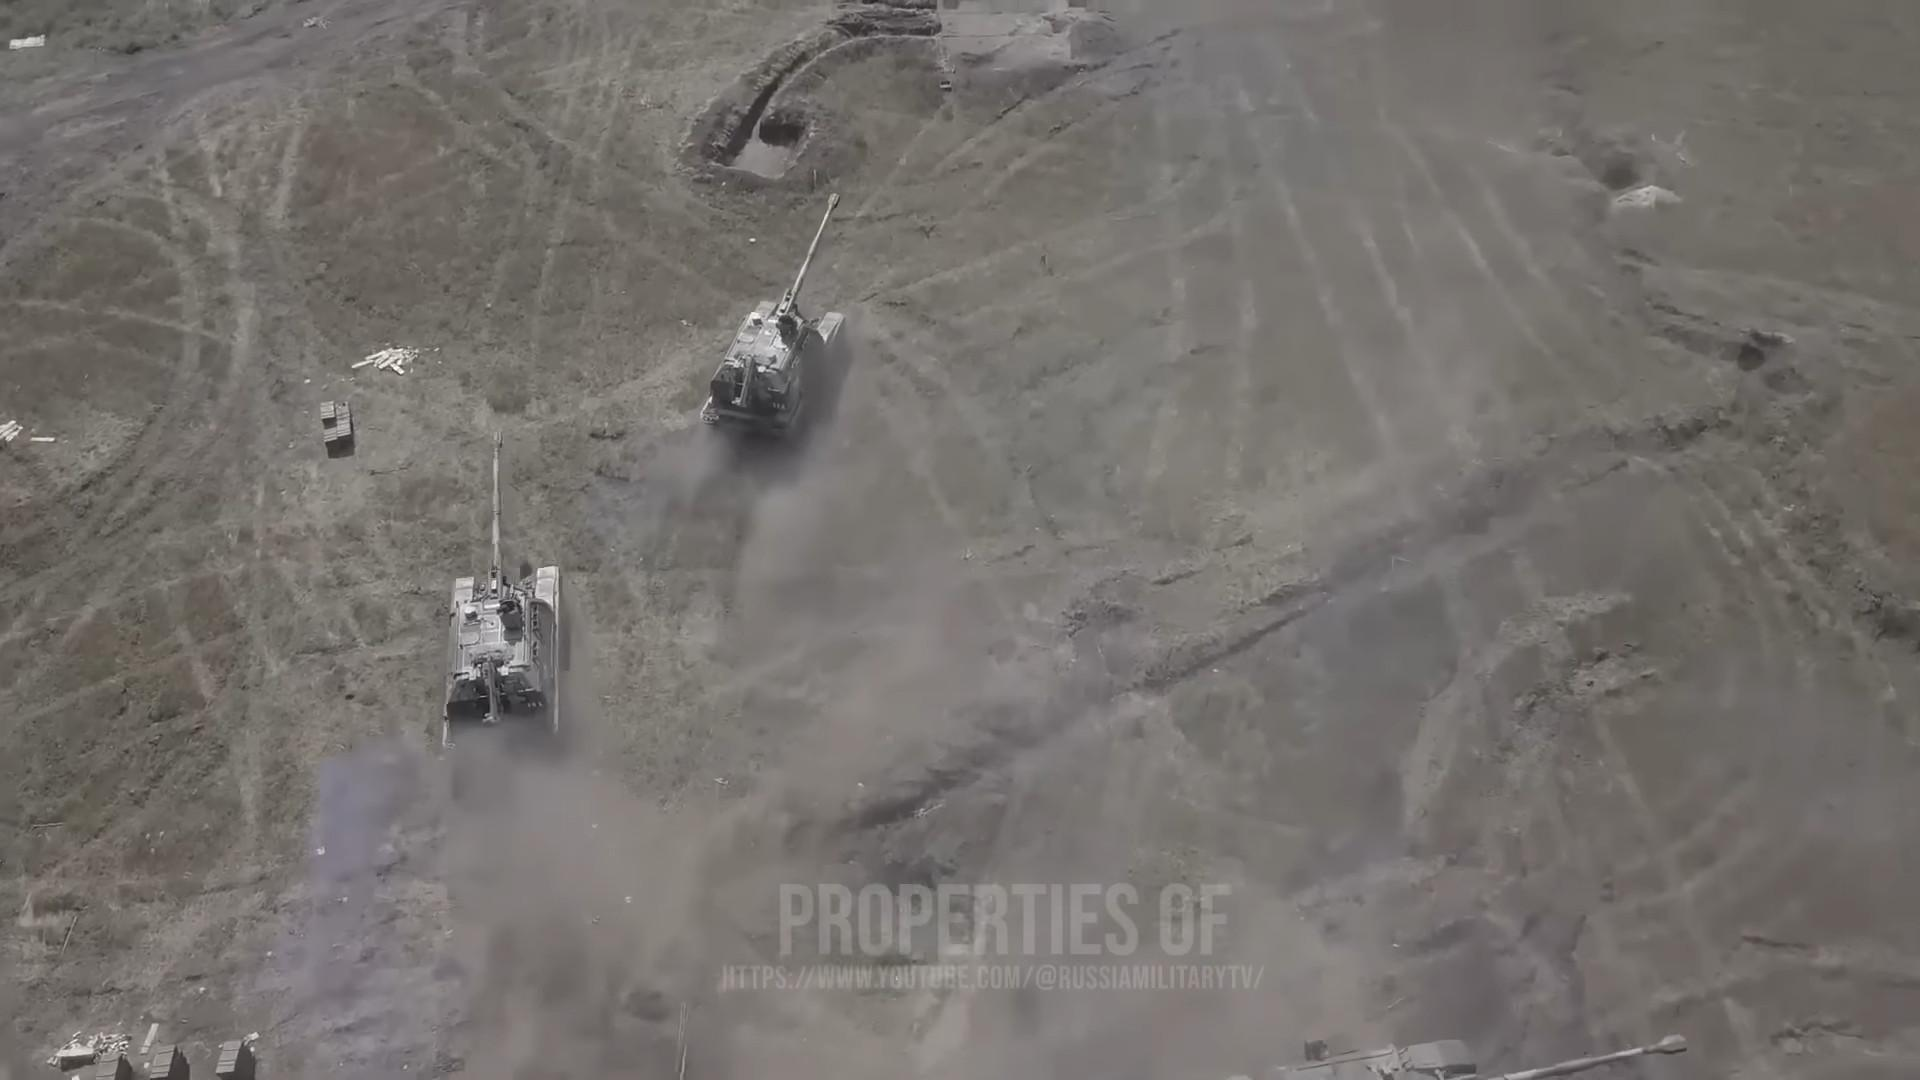tank: (443, 448, 566, 749), (702, 194, 845, 439)
